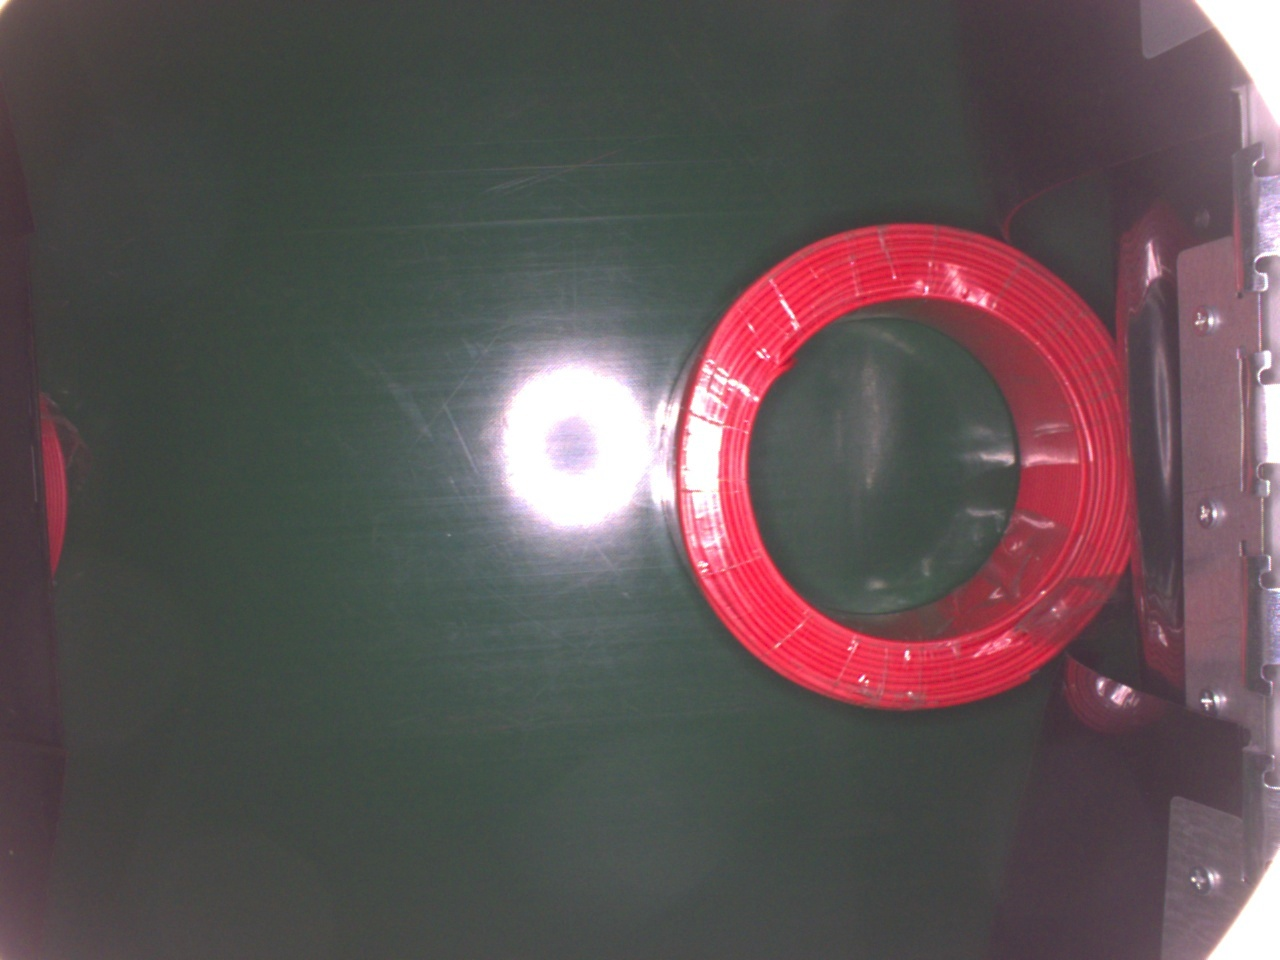red: (663, 216, 1133, 712)
